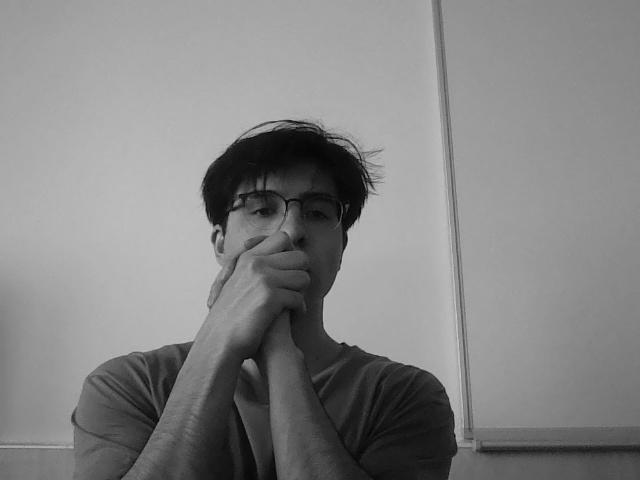friend: (181, 232, 313, 384)
